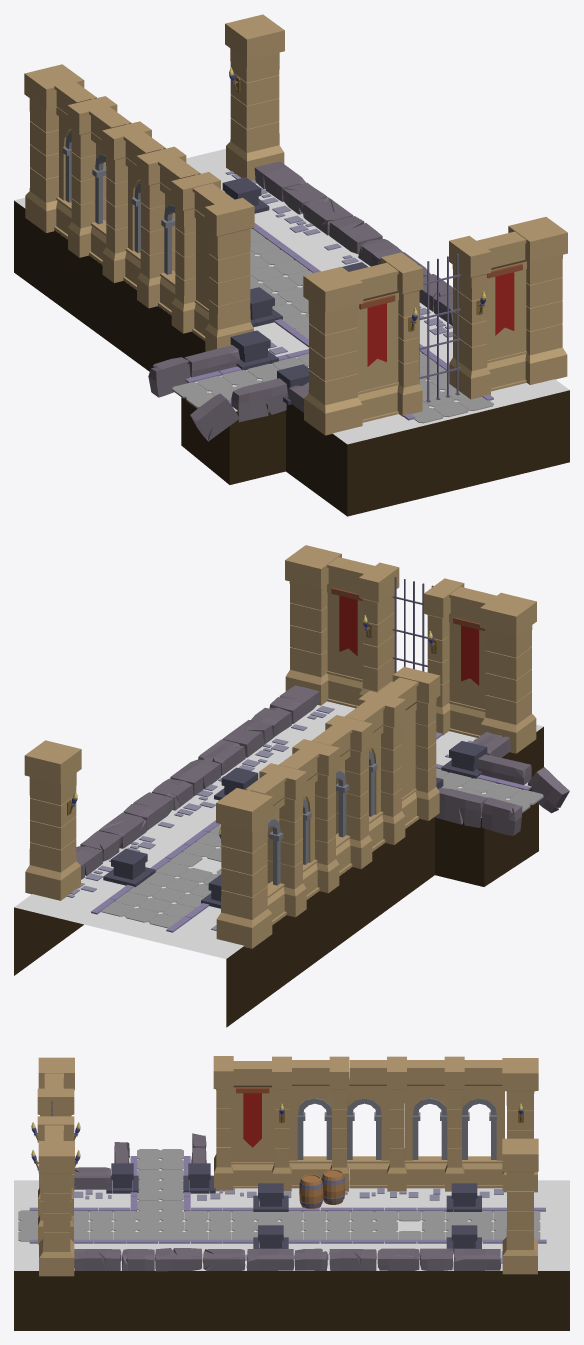
The model's file is dungeon.fbx.
The picture shows the model from 3 angles, top to bottom: view 1: azimuth 30°, elevation 25°; view 2: azimuth 150°, elevation 25°; view 3: azimuth 270°, elevation 25°; orthographic projection. The views are drawn at different scales.
Visible parts, largest first — view 1: dungeon; view 2: dungeon; view 3: dungeon.
Part boxes in pixels (left/top/right/bottom): dungeon: left=14, top=14, right=569, bottom=516; dungeon: left=14, top=545, right=569, bottom=1027; dungeon: left=14, top=1056, right=569, bottom=1330.
Bounding box in the file's own units: 1625 × 1036 × 2893.
